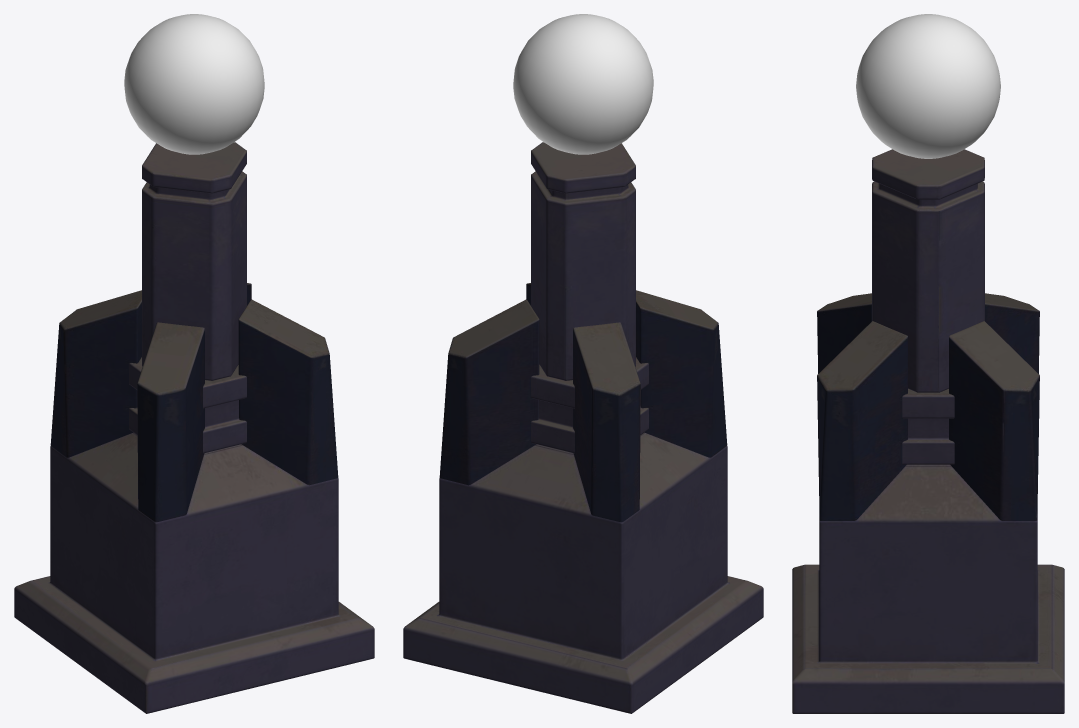
Rendered from torre.fbx.
The picture shows the model from 3 angles, left to right: view 1: azimuth 30°, elevation 25°; view 2: azimuth 150°, elevation 25°; view 3: azimuth 270°, elevation 25°; orthographic projection. The views are drawn at different scales.
Parts seen in each view (by area): view 1: Cube, Sphere; view 2: Cube, Sphere; view 3: Cube, Sphere.
Part boxes in pixels (x1=…): Cube: x1=14, y1=142, x2=374, y2=713; Sphere: x1=124, y1=14, x2=264, y2=154; Cube: x1=403, y1=142, x2=763, y2=713; Sphere: x1=513, y1=14, x2=653, y2=154; Cube: x1=792, y1=149, x2=1064, y2=713; Sphere: x1=856, y1=14, x2=1000, y2=158.
Size of the model in its own units: 100 by 258 by 100.
2 materials, 1 textured.
